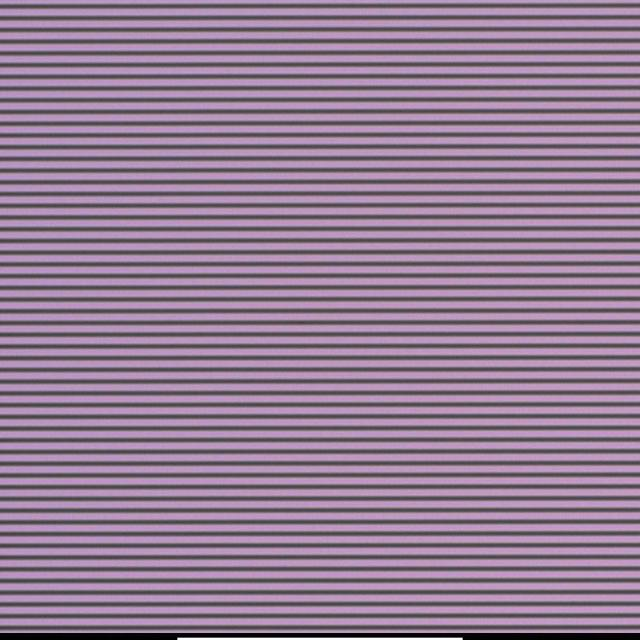nonvisual: (341, 273, 348, 280)
